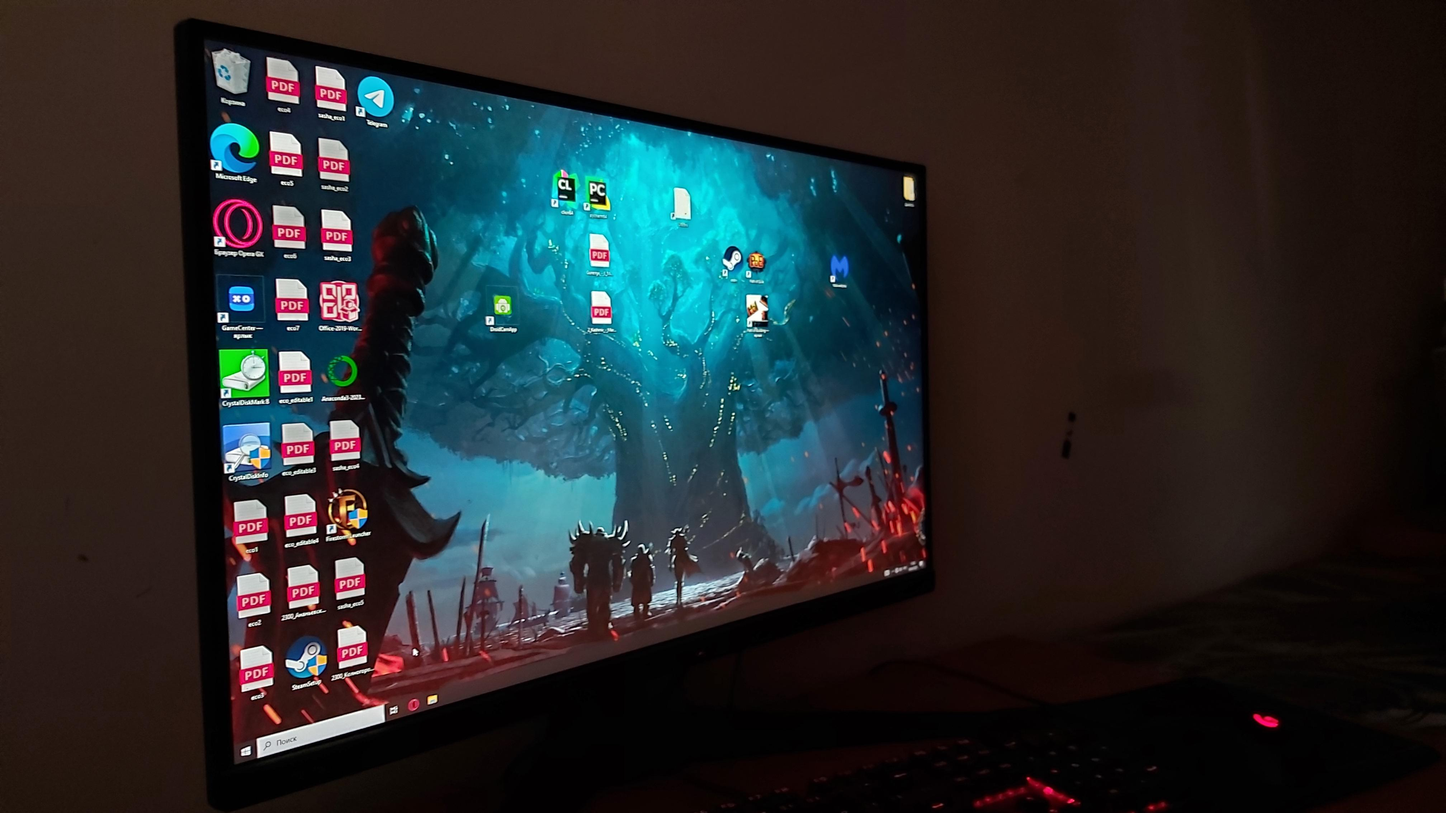monitor: (169, 18, 950, 813)
